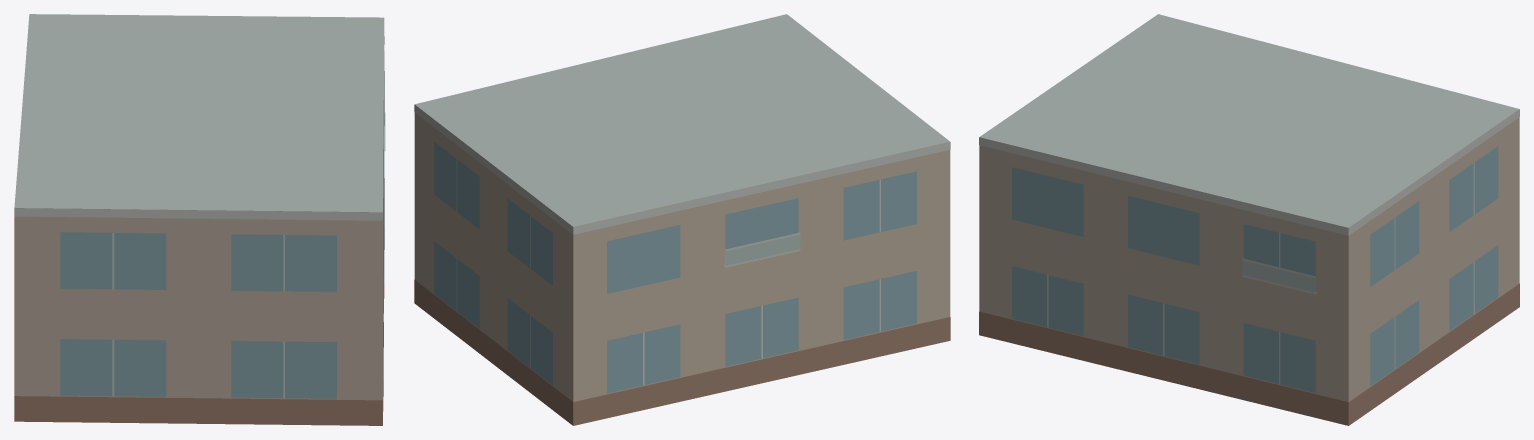
File: survey-upis-32671939.glb
The picture shows the model from 3 angles, left to right: view 1: azimuth 30°, elevation 25°; view 2: azimuth 150°, elevation 25°; view 3: azimuth 270°, elevation 25°; orthographic projection. The views are drawn at different scales.
Parts seen in each view (by area): view 1: survey-upis-32671939.tmp; view 2: survey-upis-32671939.tmp; view 3: survey-upis-32671939.tmp.
Part boxes in pixels (box(x1,y1,x2,y2)): survey-upis-32671939.tmp: box(14, 14, 385, 425); survey-upis-32671939.tmp: box(414, 14, 950, 425); survey-upis-32671939.tmp: box(979, 14, 1519, 425).
Bounding box in the file's own units: 14.14 × 6.1 × 15.1.
